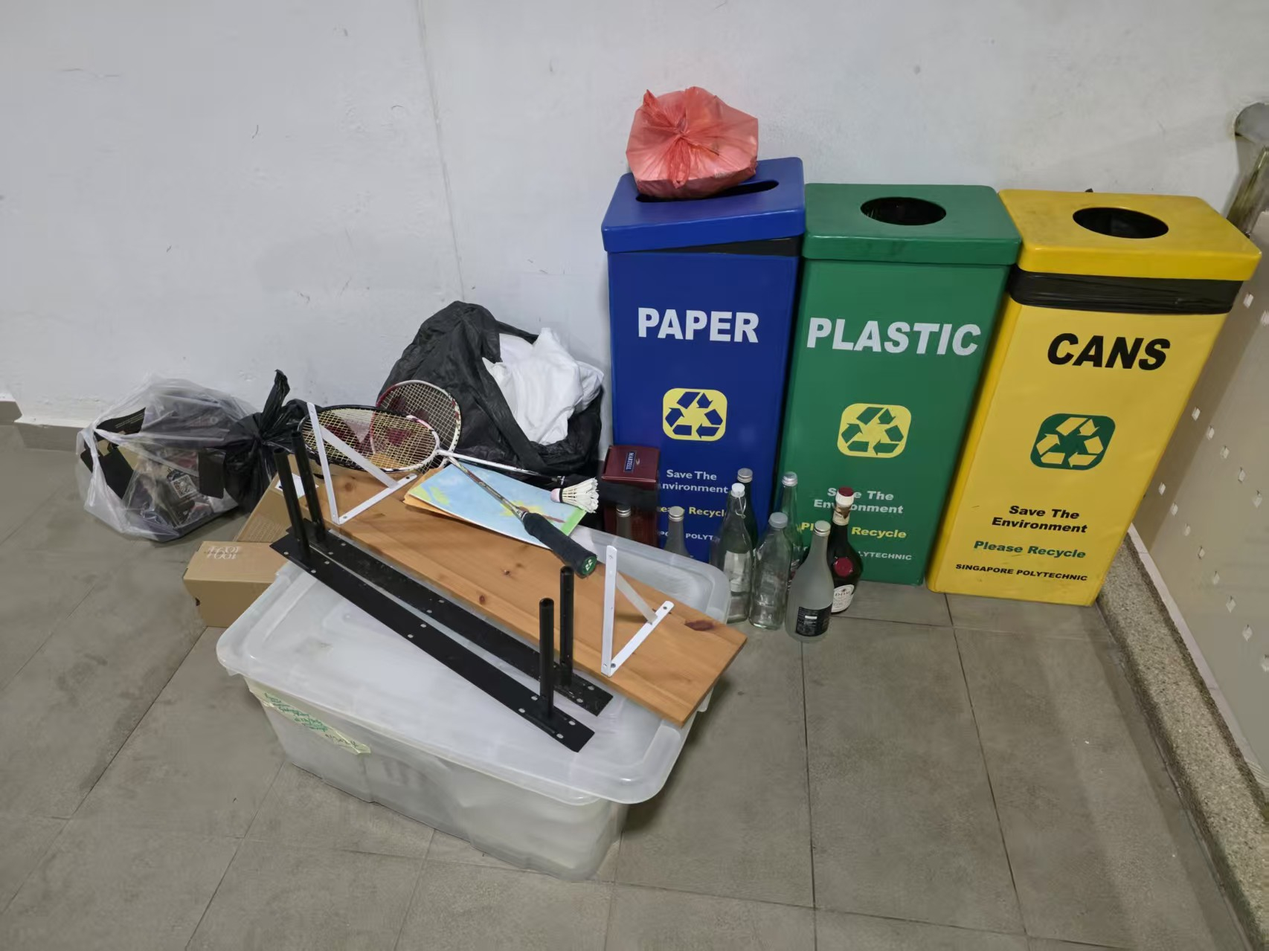bin_empty: (927, 190, 1260, 603), (780, 183, 1020, 583), (602, 157, 806, 560)
bulk_waste: (216, 562, 691, 879), (272, 434, 611, 751), (381, 302, 603, 476), (77, 370, 301, 541), (343, 503, 560, 645), (599, 581, 745, 726), (184, 478, 286, 627), (574, 567, 605, 679), (614, 599, 643, 648), (334, 476, 372, 502)
normal_waste: (626, 86, 756, 199), (318, 381, 461, 471), (406, 461, 539, 543), (468, 465, 585, 535), (711, 482, 769, 619), (784, 521, 833, 642), (748, 512, 791, 628), (826, 486, 861, 613), (777, 472, 805, 584)
